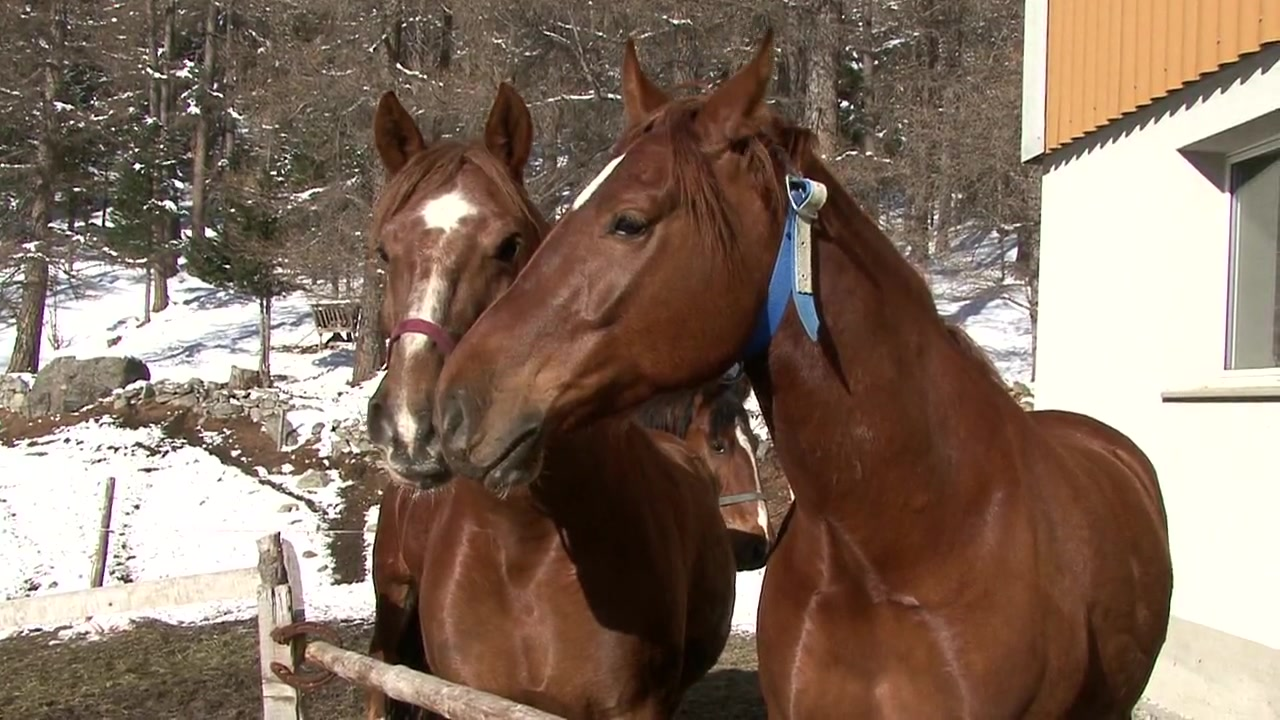horse: (433, 26, 1174, 720)
